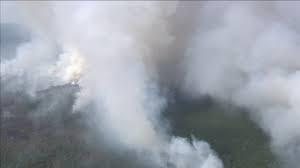yanwu: (1, 1, 297, 166)
